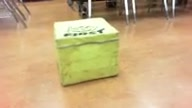cube: (53, 17, 119, 87)
